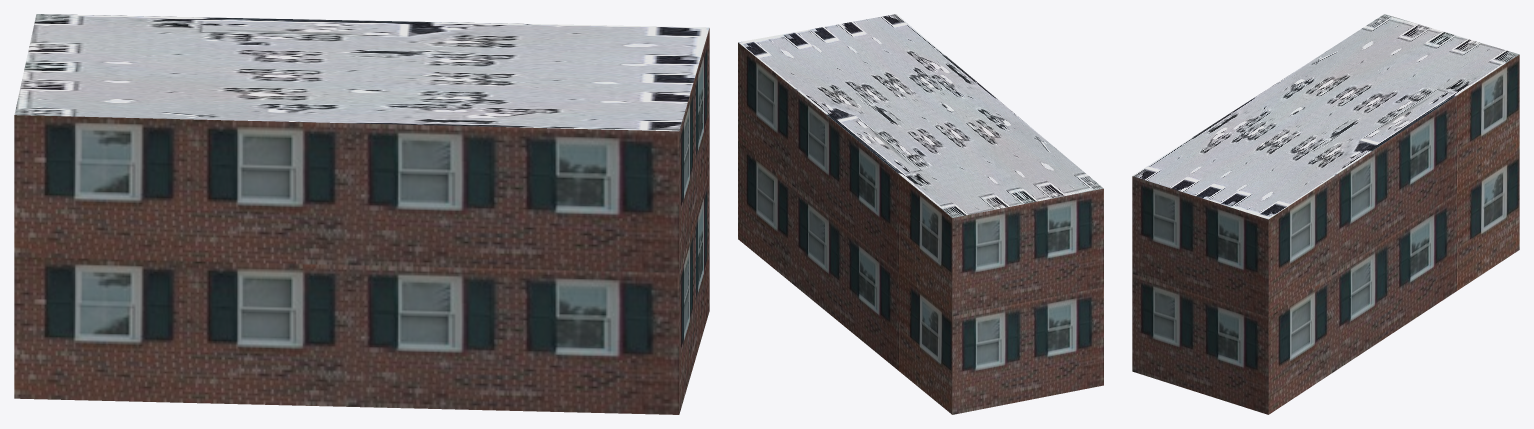
Rendered from ResTex__2209.fbx.
3 renders of one model, left to right at view 1: azimuth 30°, elevation 25°; view 2: azimuth 150°, elevation 25°; view 3: azimuth 270°, elevation 25°, orthographic. The views are drawn at different scales.
Parts seen in each view (by area): view 1: CityEngineMaterial_14_m, CityEngineMaterial_2_m; view 2: CityEngineMaterial_14_m, CityEngineMaterial_2_m; view 3: CityEngineMaterial_14_m, CityEngineMaterial_2_m.
Boxes of the visible parts, bbox=[...] form: CityEngineMaterial_14_m: bbox=[14, 28, 709, 414]; CityEngineMaterial_2_m: bbox=[14, 14, 709, 131]; CityEngineMaterial_14_m: bbox=[738, 42, 1103, 414]; CityEngineMaterial_2_m: bbox=[738, 14, 1103, 217]; CityEngineMaterial_14_m: bbox=[1132, 54, 1519, 414]; CityEngineMaterial_2_m: bbox=[1132, 14, 1519, 219].
Bounding box in the file's own units: 13.53 × 6 × 10.78.
Materials: 2 (2 with a texture image).
